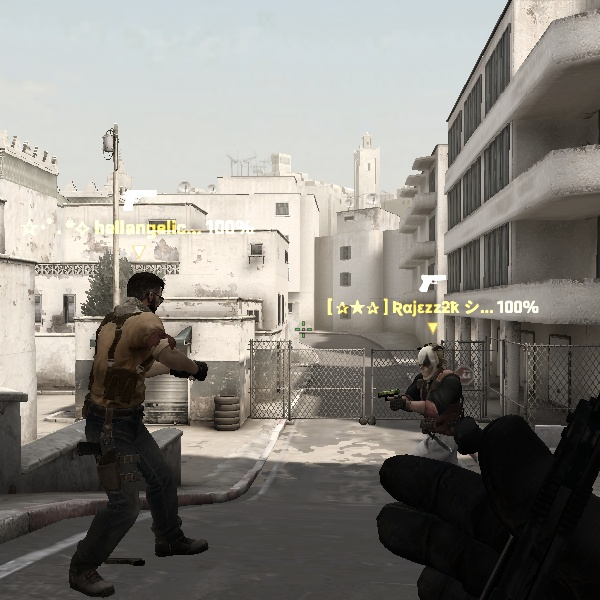t_body: (49, 259, 222, 581), (384, 339, 484, 468)
t_head: (120, 263, 176, 321), (410, 340, 460, 387)
